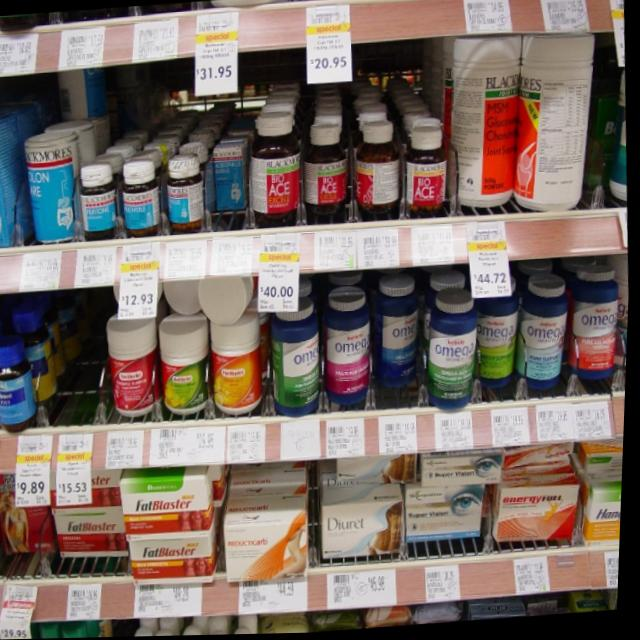q148: (115, 466, 223, 539), (134, 534, 222, 589)
